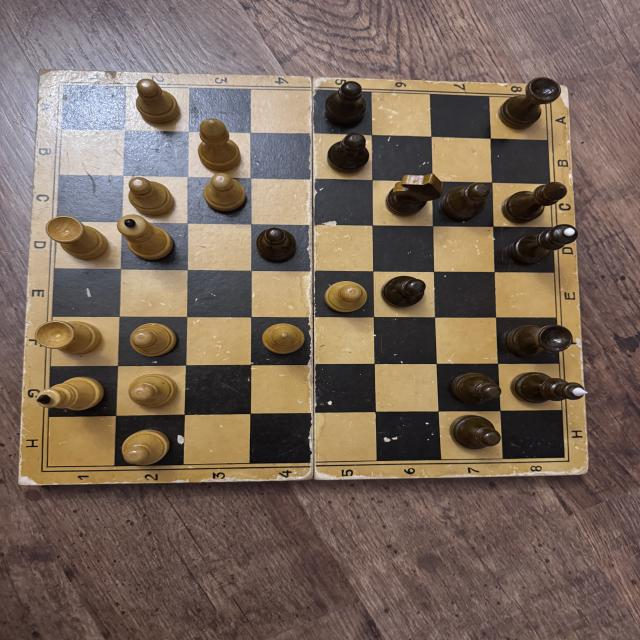black-bishop: (500, 182, 567, 224)
black-king: (510, 369, 590, 406)
black-knight: (386, 172, 443, 218)
black-pawn: (450, 414, 501, 452), (324, 80, 368, 124), (326, 133, 372, 174), (452, 372, 503, 408), (444, 182, 493, 219), (256, 226, 300, 263), (379, 275, 426, 308)
black-queen: (507, 224, 580, 267)
black-rook: (499, 76, 562, 131), (502, 323, 574, 360)
white-bishop: (196, 118, 243, 172), (261, 322, 305, 355)
white-king: (37, 376, 104, 412)
white-pawn: (134, 77, 182, 125), (126, 176, 176, 217), (121, 431, 170, 467), (128, 322, 176, 358), (202, 173, 246, 212), (129, 374, 177, 408), (323, 280, 367, 313)
white-queen: (116, 215, 178, 262)
white-rook: (45, 216, 109, 262), (35, 320, 104, 357)
